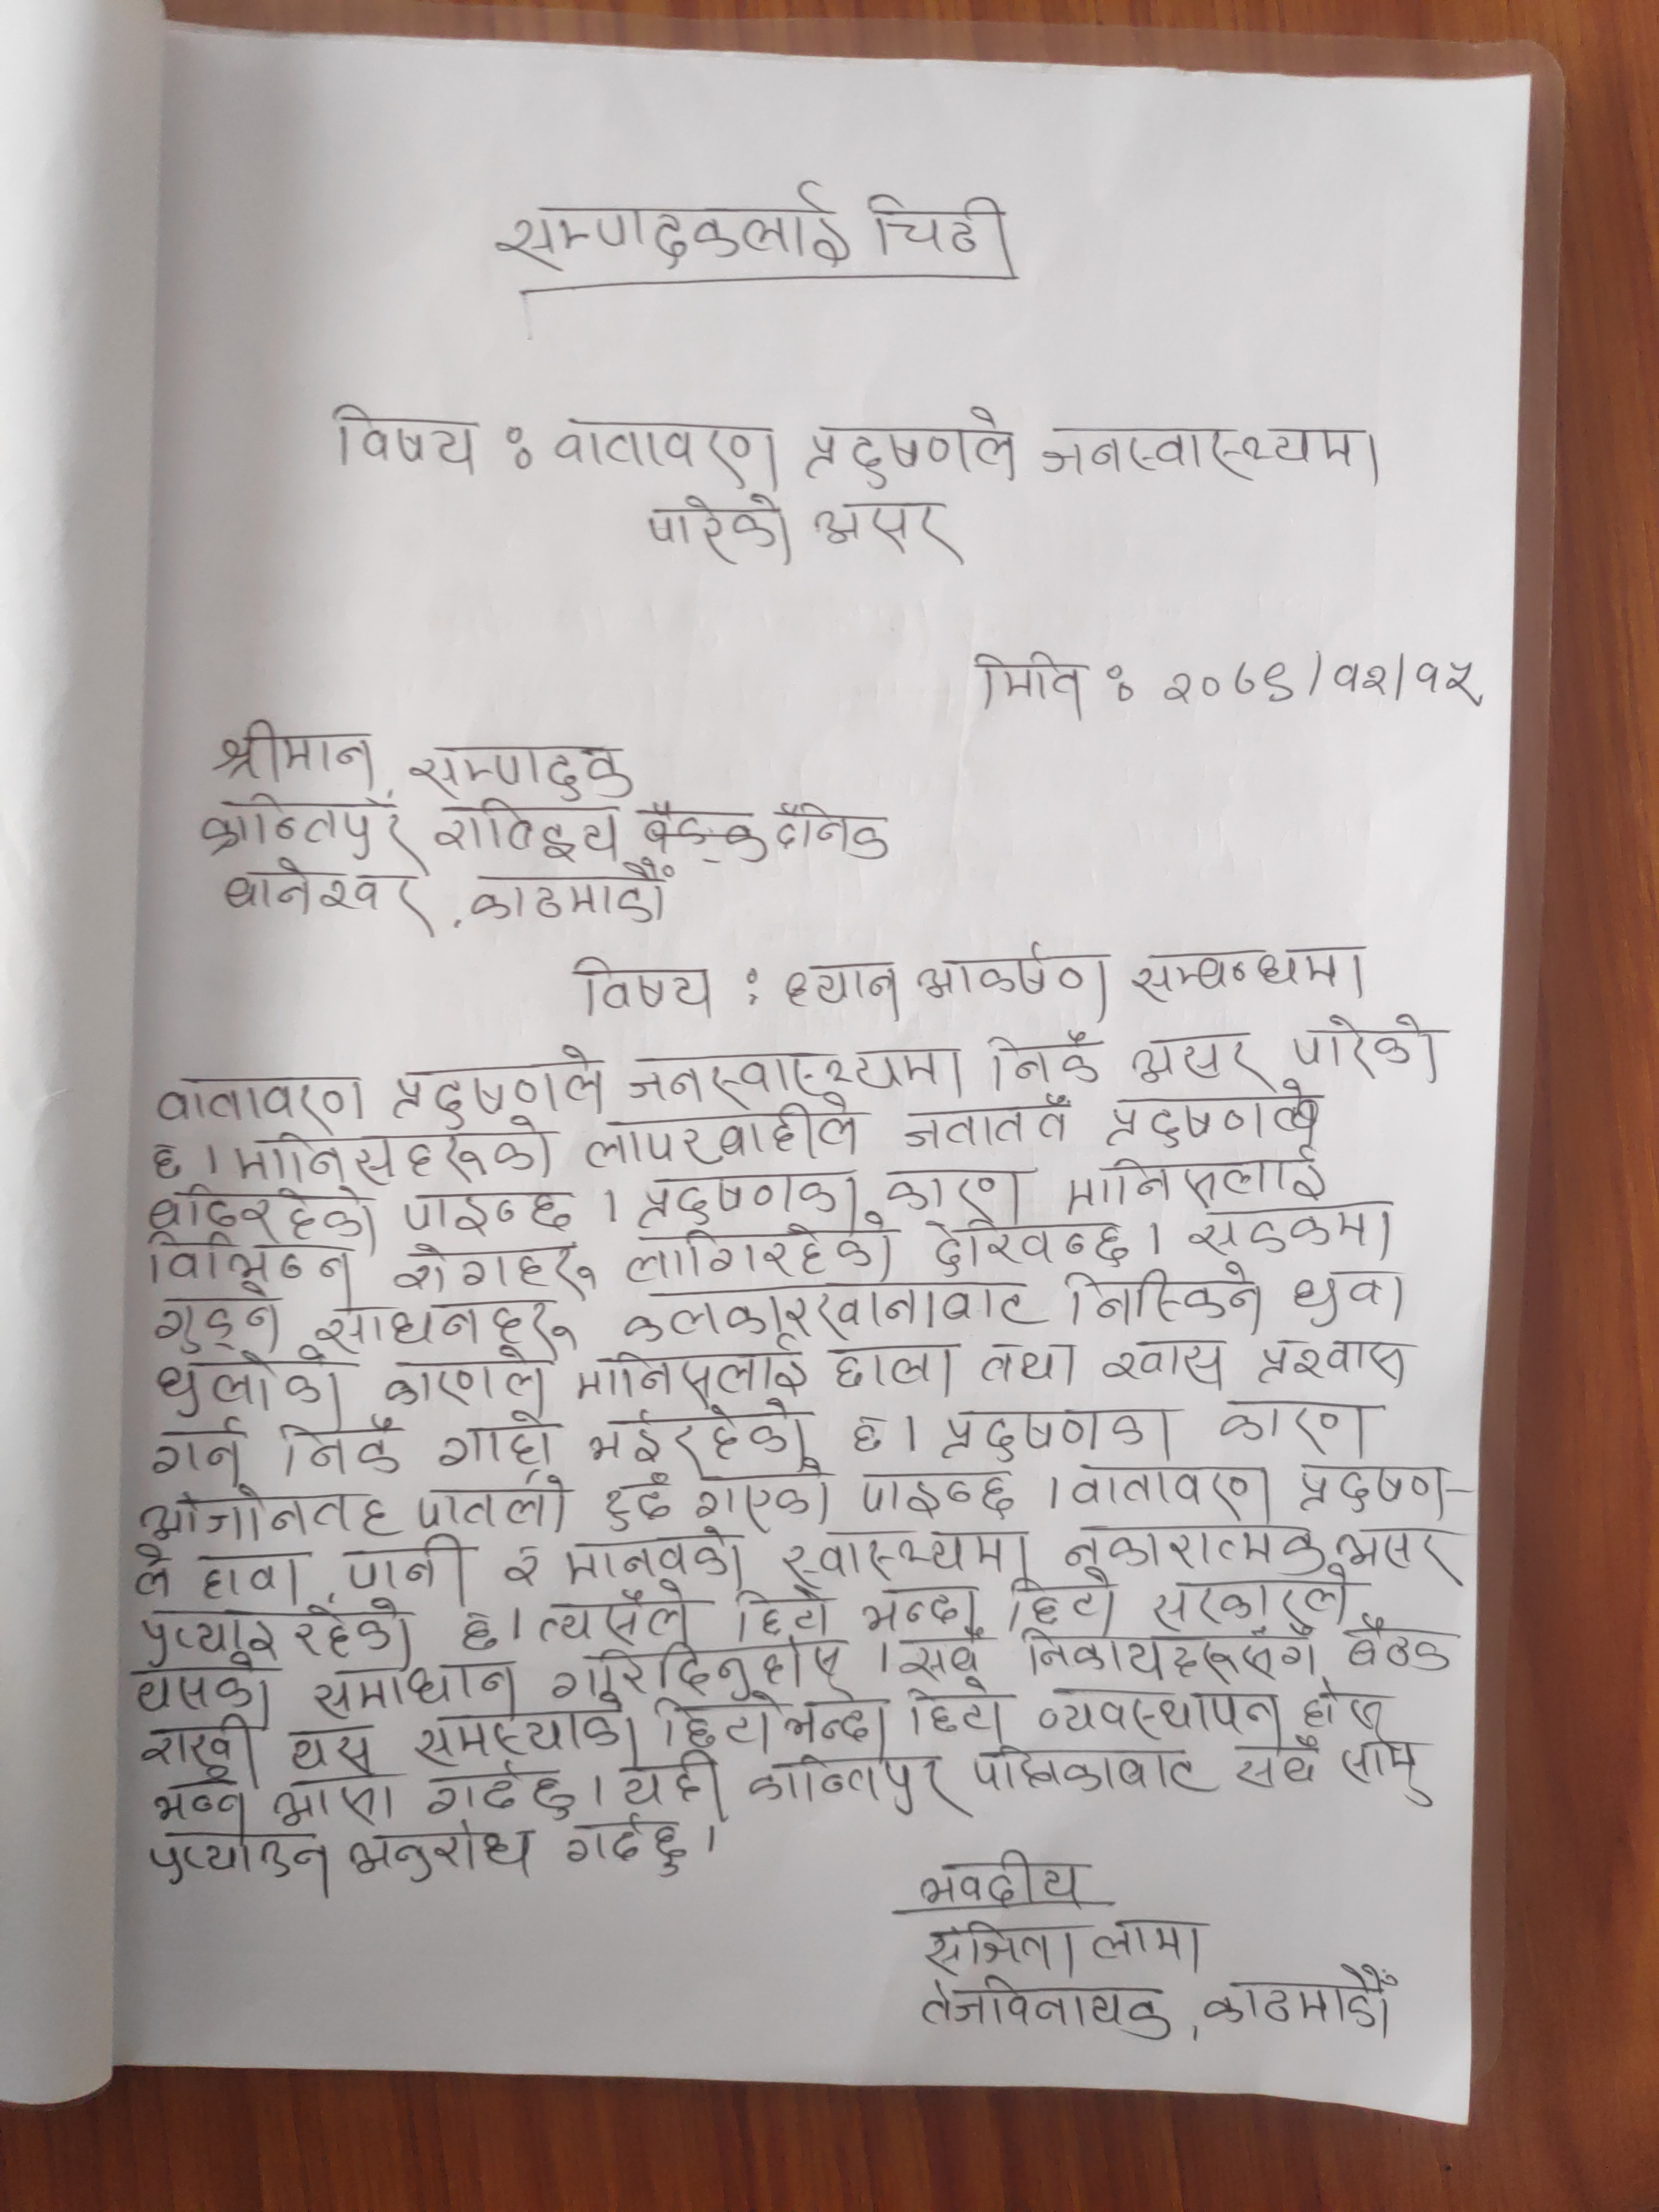text: (493, 183, 854, 282), (1033, 420, 1387, 484), (617, 1284, 1044, 1334), (915, 1972, 1175, 2047), (624, 1045, 967, 1101), (1007, 1625, 1324, 1684), (579, 1099, 861, 1165), (228, 1129, 561, 1184), (1162, 653, 1480, 711), (549, 413, 791, 488), (387, 1040, 610, 1120), (127, 1602, 422, 1662), (537, 1648, 854, 1702), (805, 406, 1021, 484), (934, 1393, 1175, 1463), (408, 1696, 647, 1766), (641, 1686, 892, 1752), (216, 860, 439, 934), (915, 939, 1114, 1021), (1060, 1150, 1328, 1209), (305, 1292, 577, 1350), (1129, 942, 1370, 1007), (1054, 1517, 1328, 1573), (192, 792, 416, 859), (1194, 1965, 1406, 2034), (1054, 1263, 1272, 1331), (634, 1163, 866, 1226), (739, 1747, 958, 1813), (1033, 1683, 1284, 1740), (146, 1064, 369, 1129), (580, 1402, 809, 1465), (134, 1482, 390, 1538), (965, 1743, 1220, 1799), (1143, 1564, 1358, 1629), (457, 866, 676, 928), (1093, 1089, 1328, 1146), (1066, 1458, 1276, 1521), (784, 1529, 1032, 1581), (917, 1212, 1134, 1271), (141, 1355, 347, 1418), (430, 796, 624, 862), (387, 1238, 603, 1298), (868, 188, 1019, 272), (343, 1822, 540, 1885), (620, 1231, 901, 1275), (1180, 1209, 1398, 1264), (143, 1831, 336, 1893), (572, 1353, 810, 1404), (216, 719, 380, 792), (310, 1663, 523, 1717), (138, 1233, 357, 1285), (380, 1348, 559, 1411), (645, 493, 795, 568), (145, 1188, 373, 1237), (329, 402, 481, 475), (408, 747, 627, 798), (812, 495, 971, 563), (910, 1853, 1094, 1911), (559, 1531, 749, 1587), (1213, 1392, 1375, 1456), (1293, 1014, 1448, 1080), (854, 1465, 1021, 1526), (897, 1094, 1079, 1150), (138, 1285, 286, 1353), (688, 1460, 840, 1526), (915, 1916, 1082, 1975), (565, 951, 713, 1017), (530, 1588, 695, 1648), (1293, 1456, 1453, 1515), (415, 1472, 573, 1531), (394, 1186, 577, 1237), (1251, 1332, 1412, 1390), (416, 1759, 573, 1817), (132, 1662, 279, 1723), (1126, 1024, 1265, 1087), (978, 1024, 1112, 1089), (343, 1536, 479, 1599), (967, 643, 1089, 712), (878, 1163, 1033, 1217), (554, 1813, 695, 1872), (765, 796, 890, 862), (781, 954, 903, 1021), (1290, 1261, 1417, 1324), (274, 1416, 401, 1479), (1331, 1735, 1436, 1810), (1087, 1907, 1211, 1968), (437, 1416, 558, 1477), (859, 1580, 983, 1639), (263, 1778, 403, 1831), (819, 1343, 962, 1393), (612, 1756, 735, 1811), (1323, 1521, 1450, 1575), (1098, 1332, 1234, 1383), (188, 1547, 307, 1604), (894, 1683, 1012, 1740), (1338, 1616, 1455, 1674), (1004, 1578, 1124, 1634), (148, 1418, 244, 1487), (969, 1336, 1086, 1392), (730, 1585, 836, 1646), (131, 1719, 258, 1768), (146, 1773, 256, 1829), (1227, 1738, 1324, 1796), (277, 1724, 378, 1775), (599, 1470, 676, 1531), (1298, 1688, 1394, 1735), (894, 1635, 979, 1679), (842, 1407, 897, 1460), (127, 1543, 174, 1604), (453, 1604, 504, 1658), (498, 1540, 545, 1594), (141, 1141, 188, 1183)
